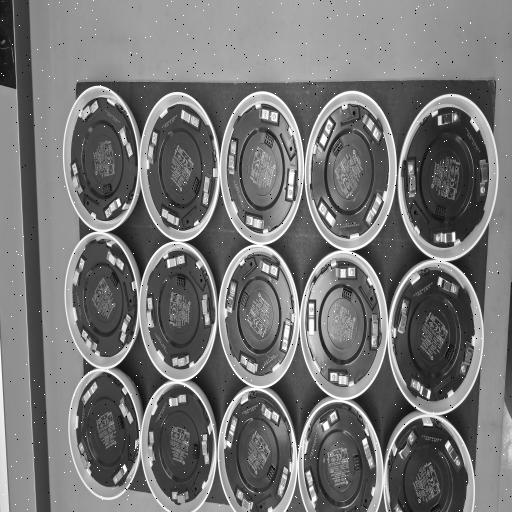konnektor: (445, 345, 455, 362), (333, 139, 342, 155), (435, 205, 446, 218), (264, 134, 274, 148), (192, 177, 200, 194), (241, 292, 249, 308), (267, 465, 275, 481), (110, 272, 118, 287), (342, 289, 352, 300), (117, 415, 124, 429), (354, 455, 360, 471), (103, 184, 111, 195), (177, 276, 185, 287), (193, 444, 198, 459)
yayli: (365, 192, 382, 226), (363, 114, 382, 143), (318, 118, 334, 151), (399, 430, 416, 460), (459, 342, 473, 377), (318, 201, 336, 228), (410, 378, 431, 400), (445, 441, 461, 468), (285, 164, 296, 202), (362, 437, 375, 469), (397, 299, 409, 333), (305, 470, 317, 504), (120, 126, 133, 157), (259, 259, 279, 279), (320, 411, 339, 432), (262, 403, 280, 425), (277, 466, 289, 498), (81, 100, 99, 121), (438, 277, 459, 295), (119, 397, 133, 424), (236, 489, 253, 511), (226, 416, 238, 447), (78, 442, 91, 470), (280, 319, 291, 352), (240, 354, 258, 374), (107, 250, 124, 271), (147, 132, 158, 164), (82, 382, 98, 404), (73, 257, 85, 286), (82, 329, 97, 352), (181, 110, 199, 129), (161, 207, 179, 226), (72, 163, 83, 194), (407, 160, 416, 197), (479, 160, 488, 197), (202, 174, 212, 207), (201, 294, 211, 327), (246, 214, 264, 232), (227, 281, 237, 313), (120, 314, 131, 343), (370, 314, 379, 349), (228, 140, 237, 174), (329, 371, 349, 386), (434, 231, 456, 244), (438, 112, 460, 125), (259, 108, 278, 123), (113, 464, 127, 484), (335, 266, 356, 279), (308, 302, 316, 336), (202, 433, 210, 465), (167, 254, 185, 268), (169, 393, 187, 407), (172, 355, 189, 368), (147, 297, 154, 328), (148, 431, 155, 462), (172, 491, 188, 504)
